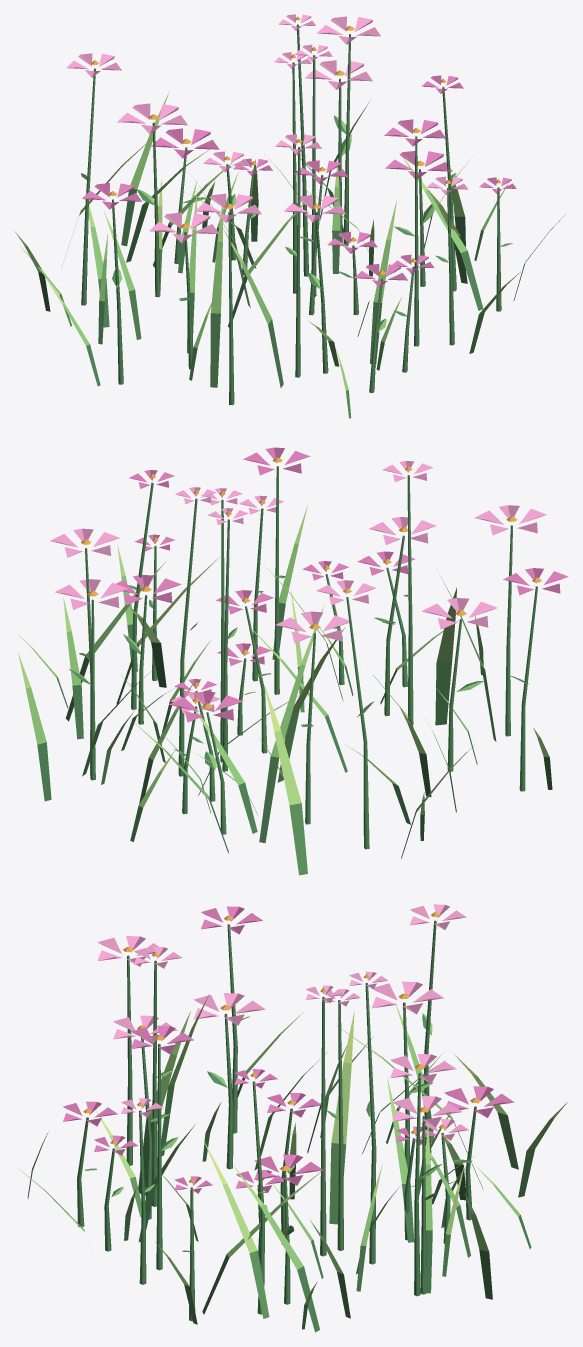
The model's file is Flower_01_Pink.glb.
3 views of the same model, one above another, from view 1: azimuth 30°, elevation 25°; view 2: azimuth 150°, elevation 25°; view 3: azimuth 270°, elevation 25° (orthographic). The views are drawn at different scales.
Parts seen in each view (by area): view 1: Flower_01_Pink; view 2: Flower_01_Pink; view 3: Flower_01_Pink.
Boxes of the visible parts, x1,y1,x2,y2 form: Flower_01_Pink: (15, 14, 565, 418); Flower_01_Pink: (18, 447, 568, 875); Flower_01_Pink: (17, 904, 567, 1332).
Bounding box in the file's own units: 1.08 × 0.5755 × 1.02.
